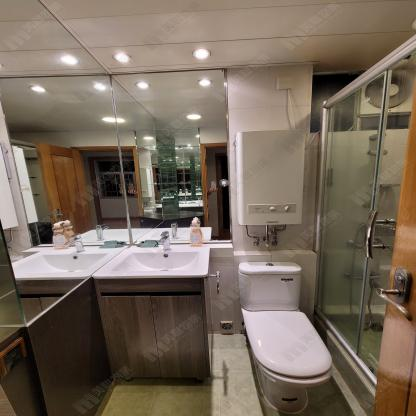Exhaust Fan: (355, 69, 416, 116)
Faucet: (157, 230, 173, 252)
Toilet: (237, 261, 333, 412)
Toilet Sink: (92, 246, 211, 278)
Water Heater: (236, 129, 306, 226)
